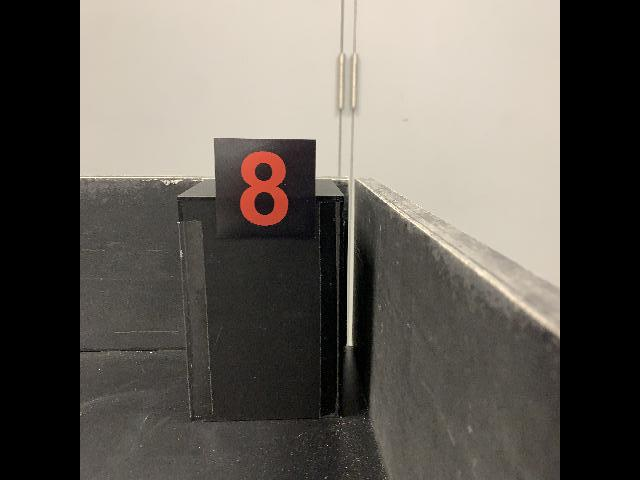eight: (213, 137, 317, 242)
